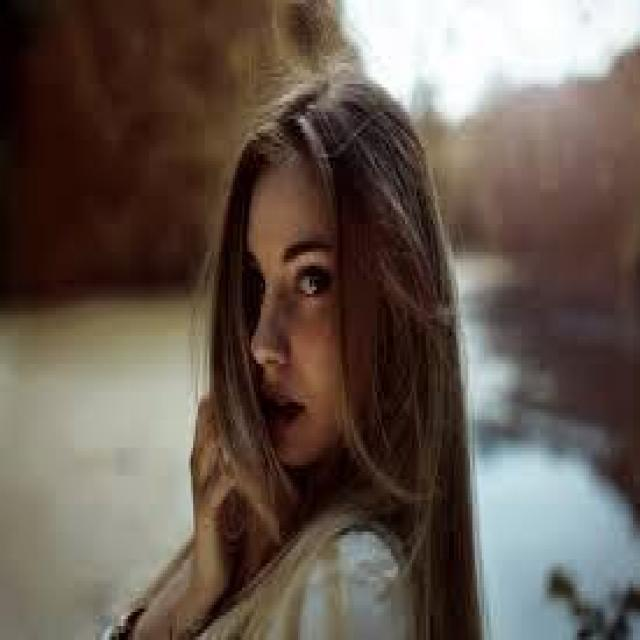person: (146, 35, 482, 636)
